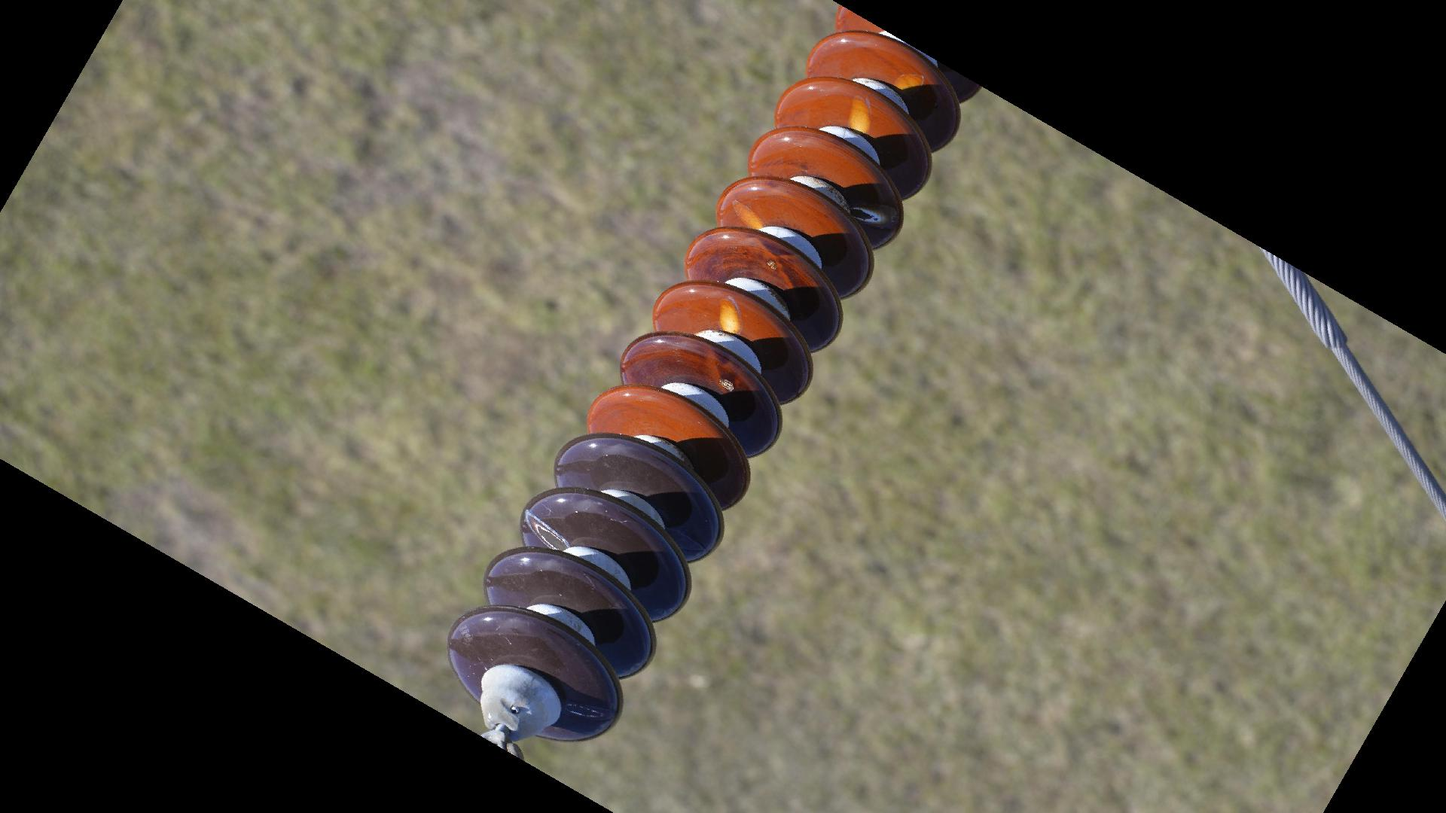insulator: (440, 1, 984, 748)
insulator_flashover: (522, 508, 571, 553), (714, 294, 746, 336), (728, 197, 767, 230), (845, 92, 874, 135), (892, 71, 928, 98)
